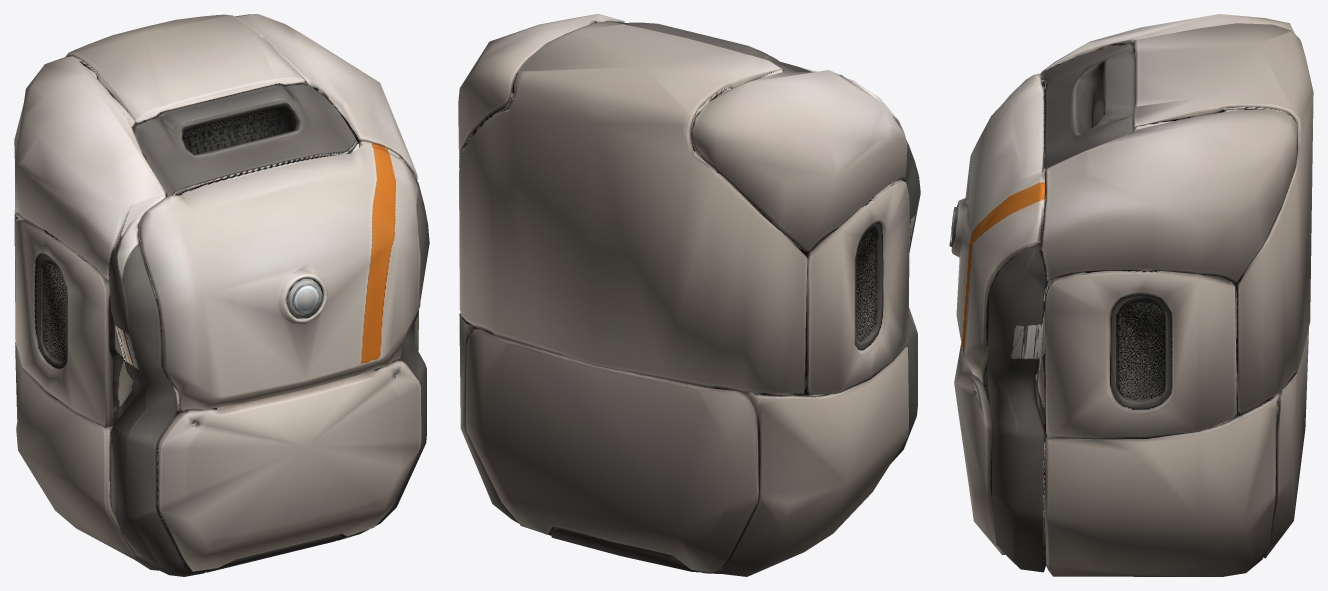
3 views of the same model, side by side, from view 1: azimuth 30°, elevation 25°; view 2: azimuth 150°, elevation 25°; view 3: azimuth 270°, elevation 25° (orthographic). The views are drawn at different scales.
Visible parts, largest first — view 1: SM_BP02_01_LOD1; view 2: SM_BP02_01_LOD1; view 3: SM_BP02_01_LOD1.
Part boxes in pixels (box(x1,y1,x2,y2)): SM_BP02_01_LOD1: box(14, 14, 429, 576); SM_BP02_01_LOD1: box(458, 14, 920, 576); SM_BP02_01_LOD1: box(949, 14, 1313, 576).
Size of the model in its own units: 0.7958 by 0.9866 by 0.6858.
Materials: 1 (1 with a texture image).
